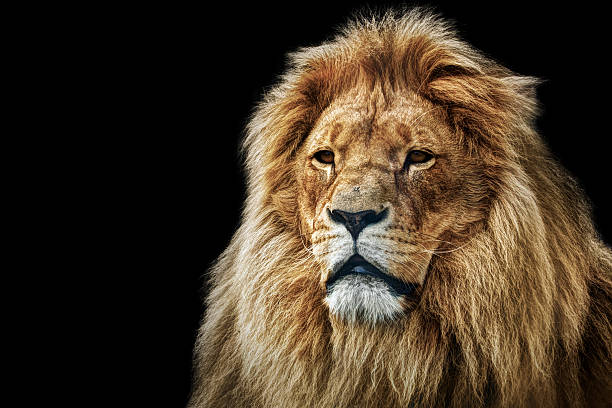lion: (153, 3, 612, 398)
